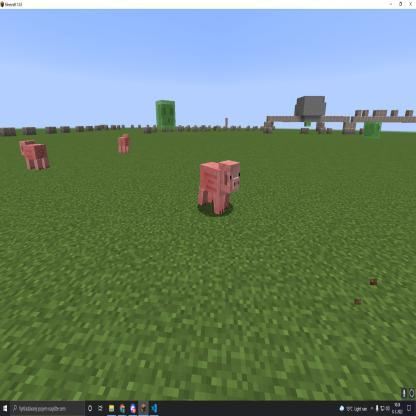pig: (196, 156, 244, 219), (116, 130, 132, 158)
